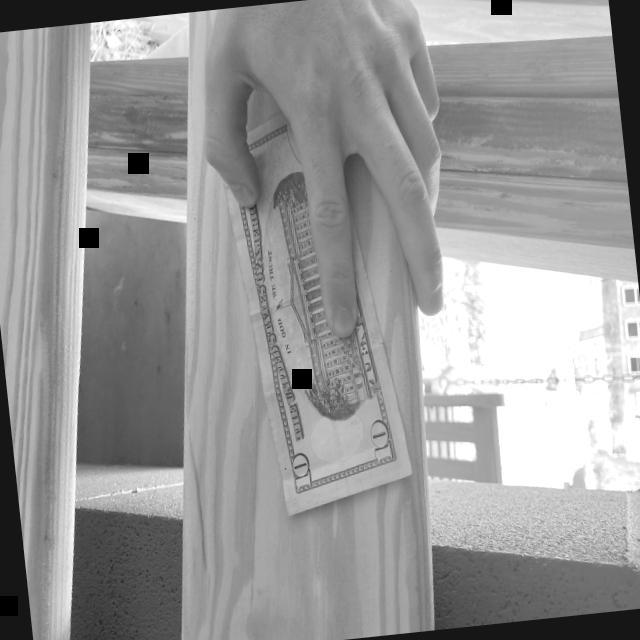ten: (214, 96, 411, 518)
